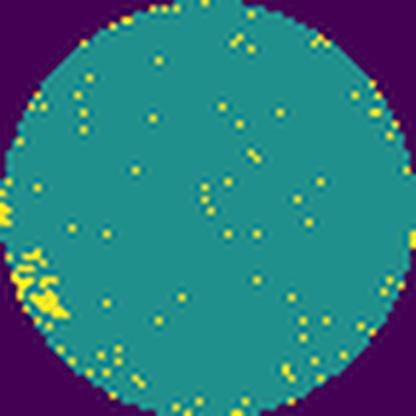Loc: (34, 289, 70, 321)
